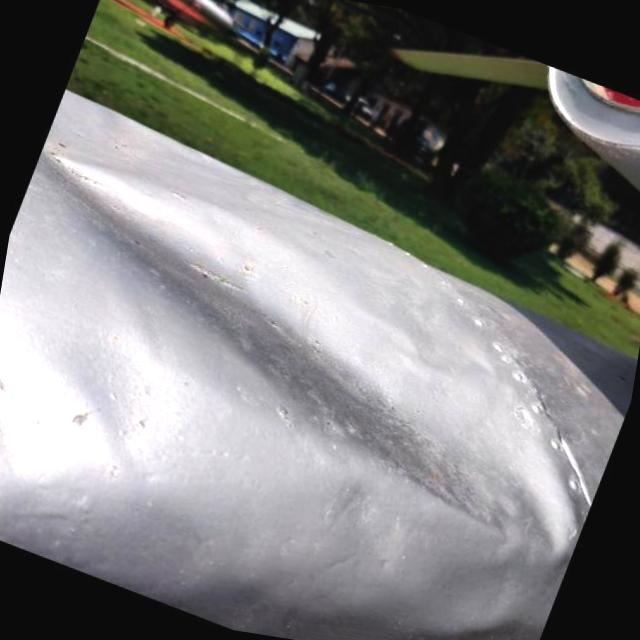dent: (0, 148, 627, 541), (0, 401, 41, 537)
